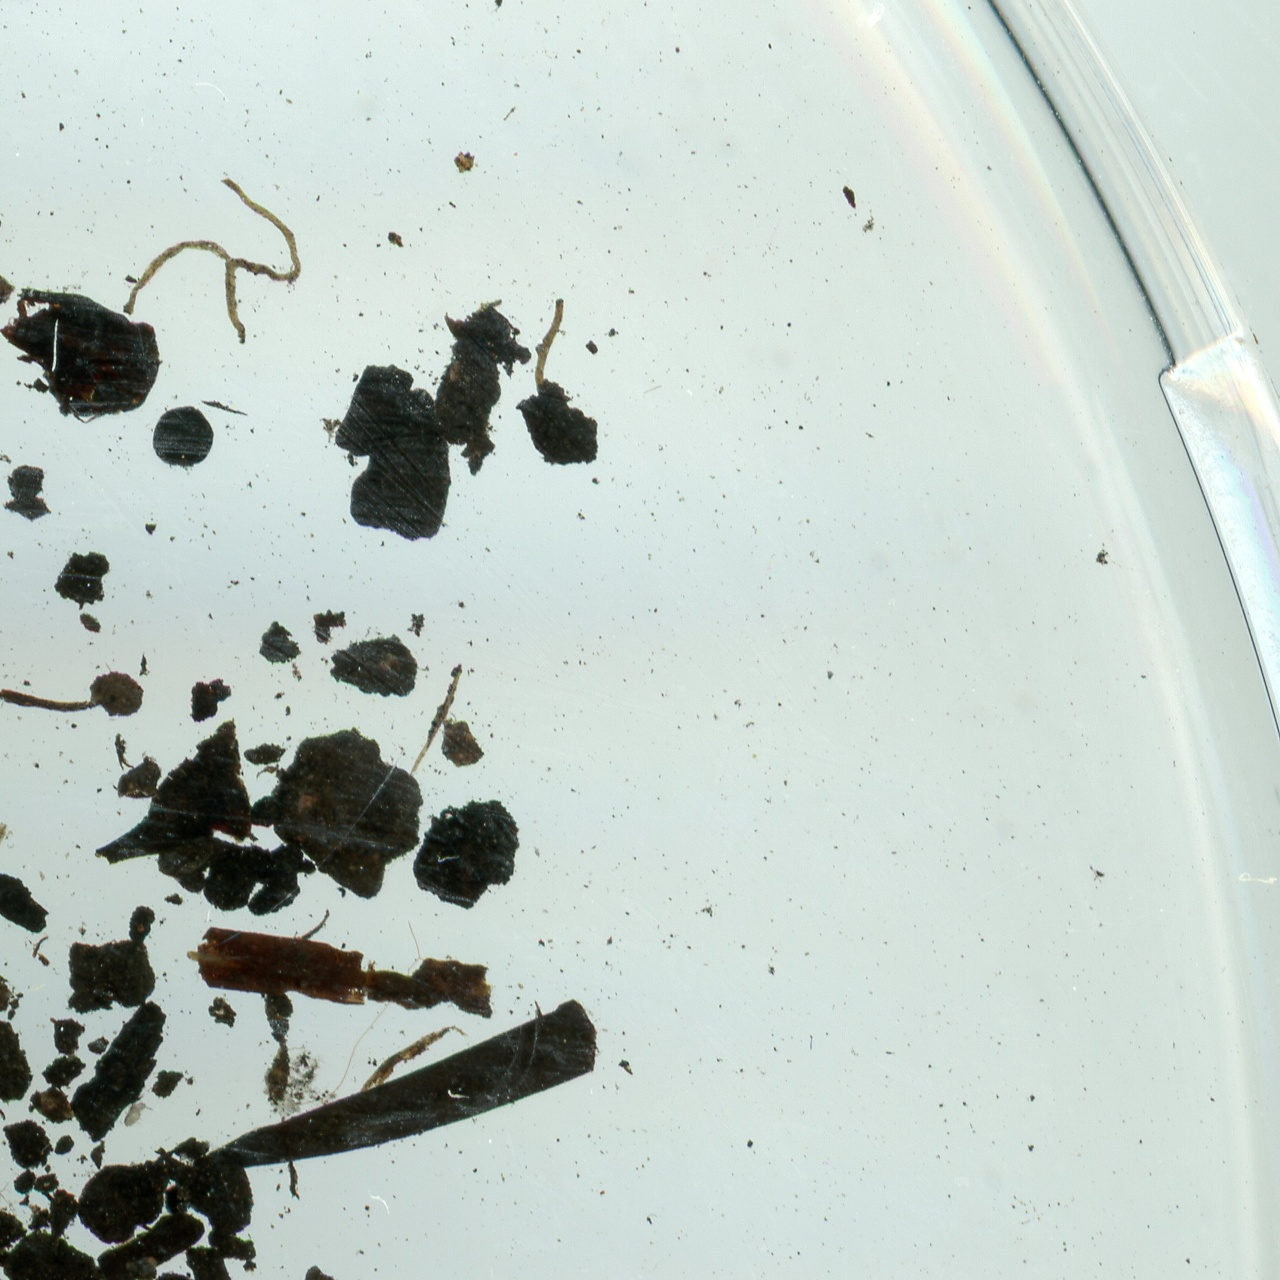arthropod: (114, 1093, 159, 1137)
